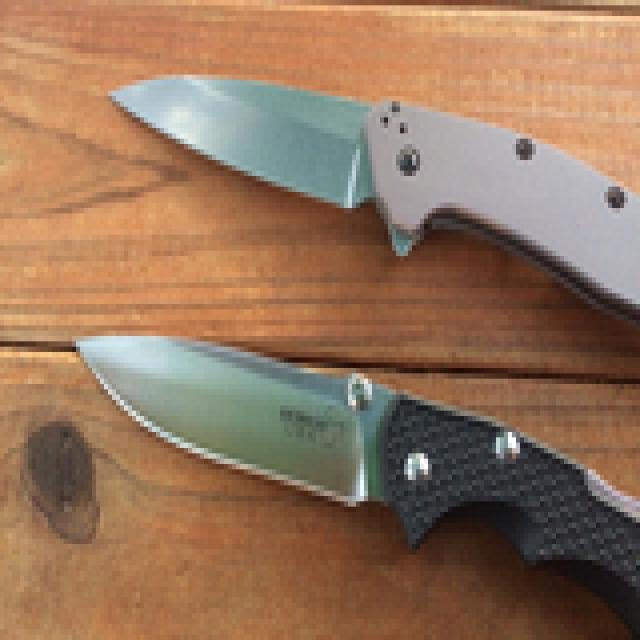Knife: (55, 287, 628, 593), (90, 49, 640, 323)
